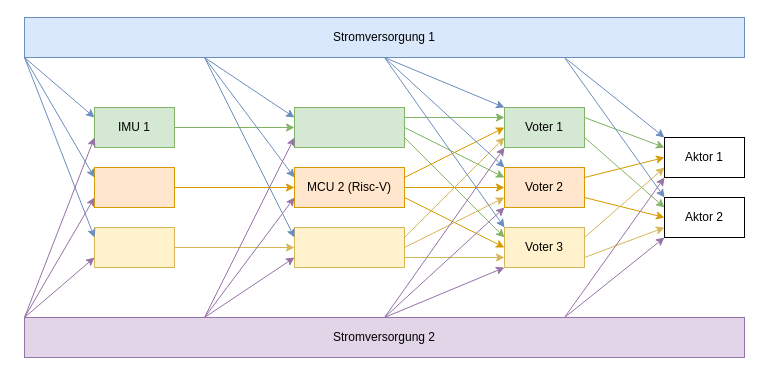
The diagram is 762 pixels wide and 375 high, and some of its shapes have lost their labels. The shapes that lost their labels are listed below. From the top down, each one's box as (x1, y1, x2, y2) in pixels, then its label:
(294, 106, 404, 148): MCU 1 (FPGA)
(94, 166, 174, 208): IMU 2
(94, 226, 174, 268): IMU 3
(294, 226, 404, 268): MCU 3 (Cortex-M4)
